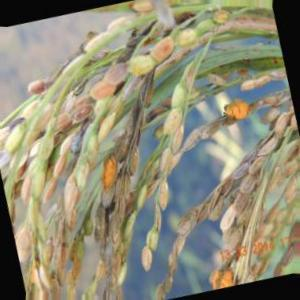Leaf_Scald: (210, 242, 257, 290), (96, 151, 118, 202), (226, 99, 261, 127), (153, 34, 182, 64)
